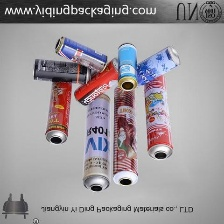aerosol_cans: (80, 91, 112, 194), (140, 70, 175, 161), (72, 55, 129, 109), (111, 83, 140, 188), (126, 43, 183, 92), (41, 72, 74, 148), (53, 34, 109, 76), (28, 56, 95, 86), (114, 40, 140, 93)
